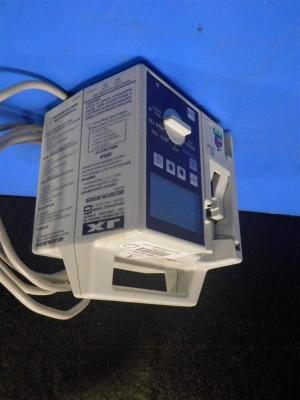plumxl1: (39, 68, 245, 306)
